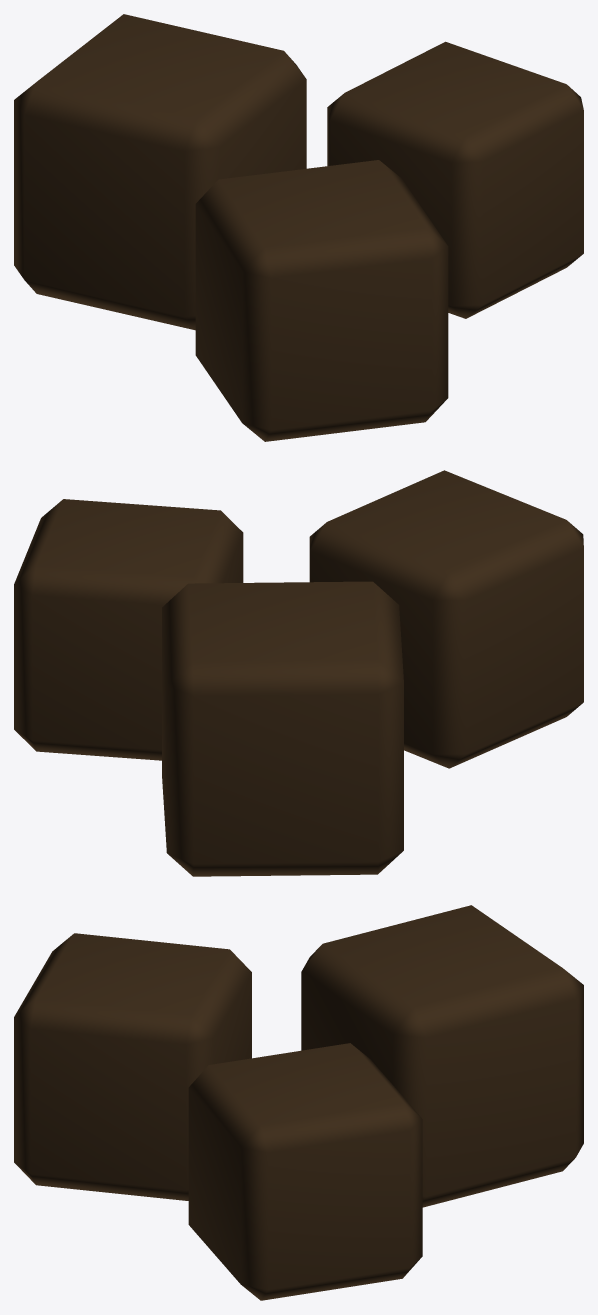
The model's file is VombatPoo.fbx.
The picture shows the model from 3 angles, top to bottom: view 1: azimuth 30°, elevation 25°; view 2: azimuth 150°, elevation 25°; view 3: azimuth 270°, elevation 25°; orthographic projection. The views are drawn at different scales.
Parts seen in each view (by area): view 1: Shell; view 2: Shell; view 3: Shell.
Part boxes in pixels (x1,y1,x2,y2): Shell: [14, 14, 583, 441]; Shell: [14, 470, 583, 876]; Shell: [14, 905, 583, 1300].
Size of the model in its own units: 0.7423 by 0.3312 by 0.8363.
